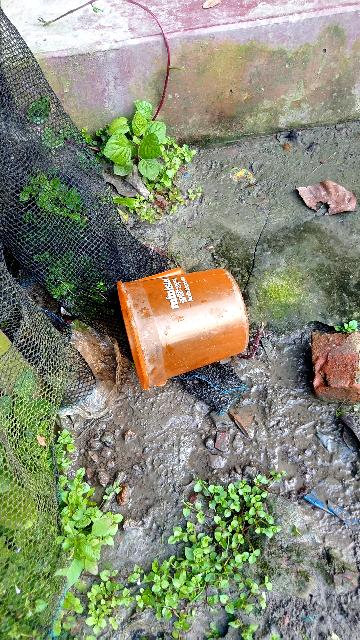hardplastic: (101, 241, 268, 401)
